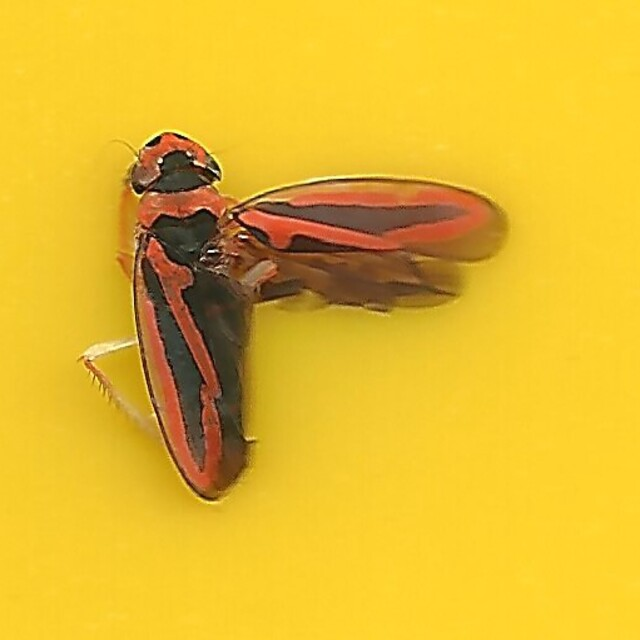Hemiptera: (125, 130, 515, 510)
